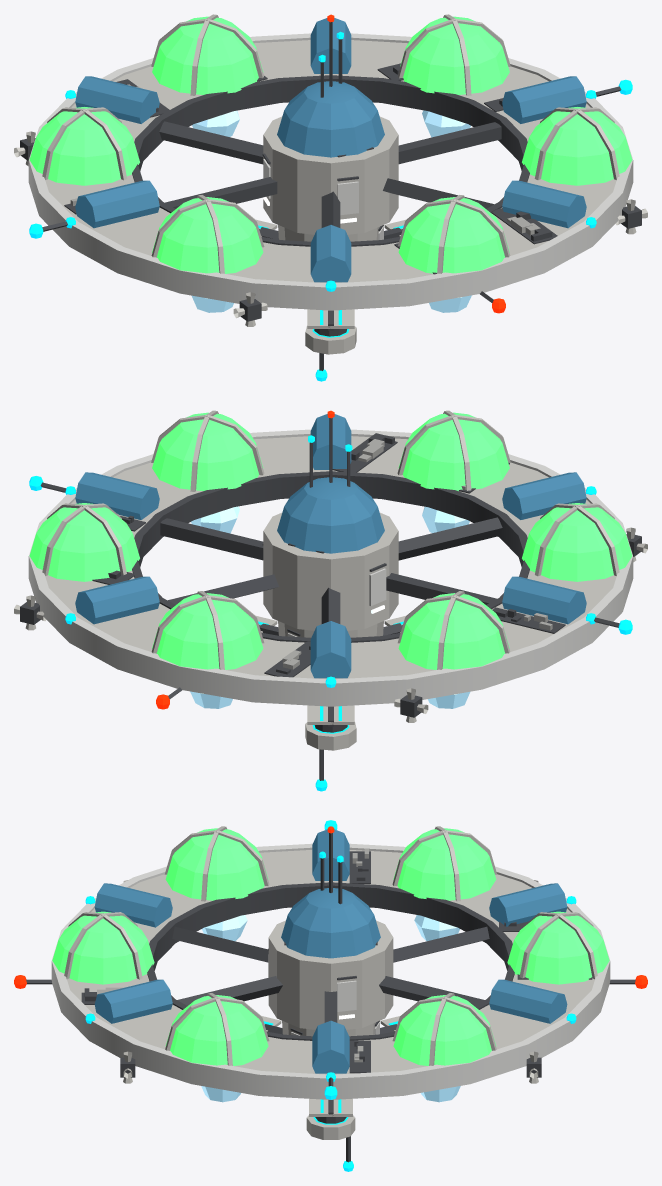
File: farm.glb
3 renders of one model, top to bottom at view 1: azimuth 30°, elevation 25°; view 2: azimuth 150°, elevation 25°; view 3: azimuth 270°, elevation 25°, orthographic. The views are drawn at different scales.
Visible parts, largest first — view 1: farm; view 2: farm; view 3: farm.
Boxes of the visible parts, left/top/right/bottom form: farm: left=14, top=14, right=647, bottom=381; farm: left=14, top=410, right=647, bottom=791; farm: left=14, top=820, right=647, bottom=1171.
Bounding box in the file's own units: 2 × 1.18 × 1.97.
